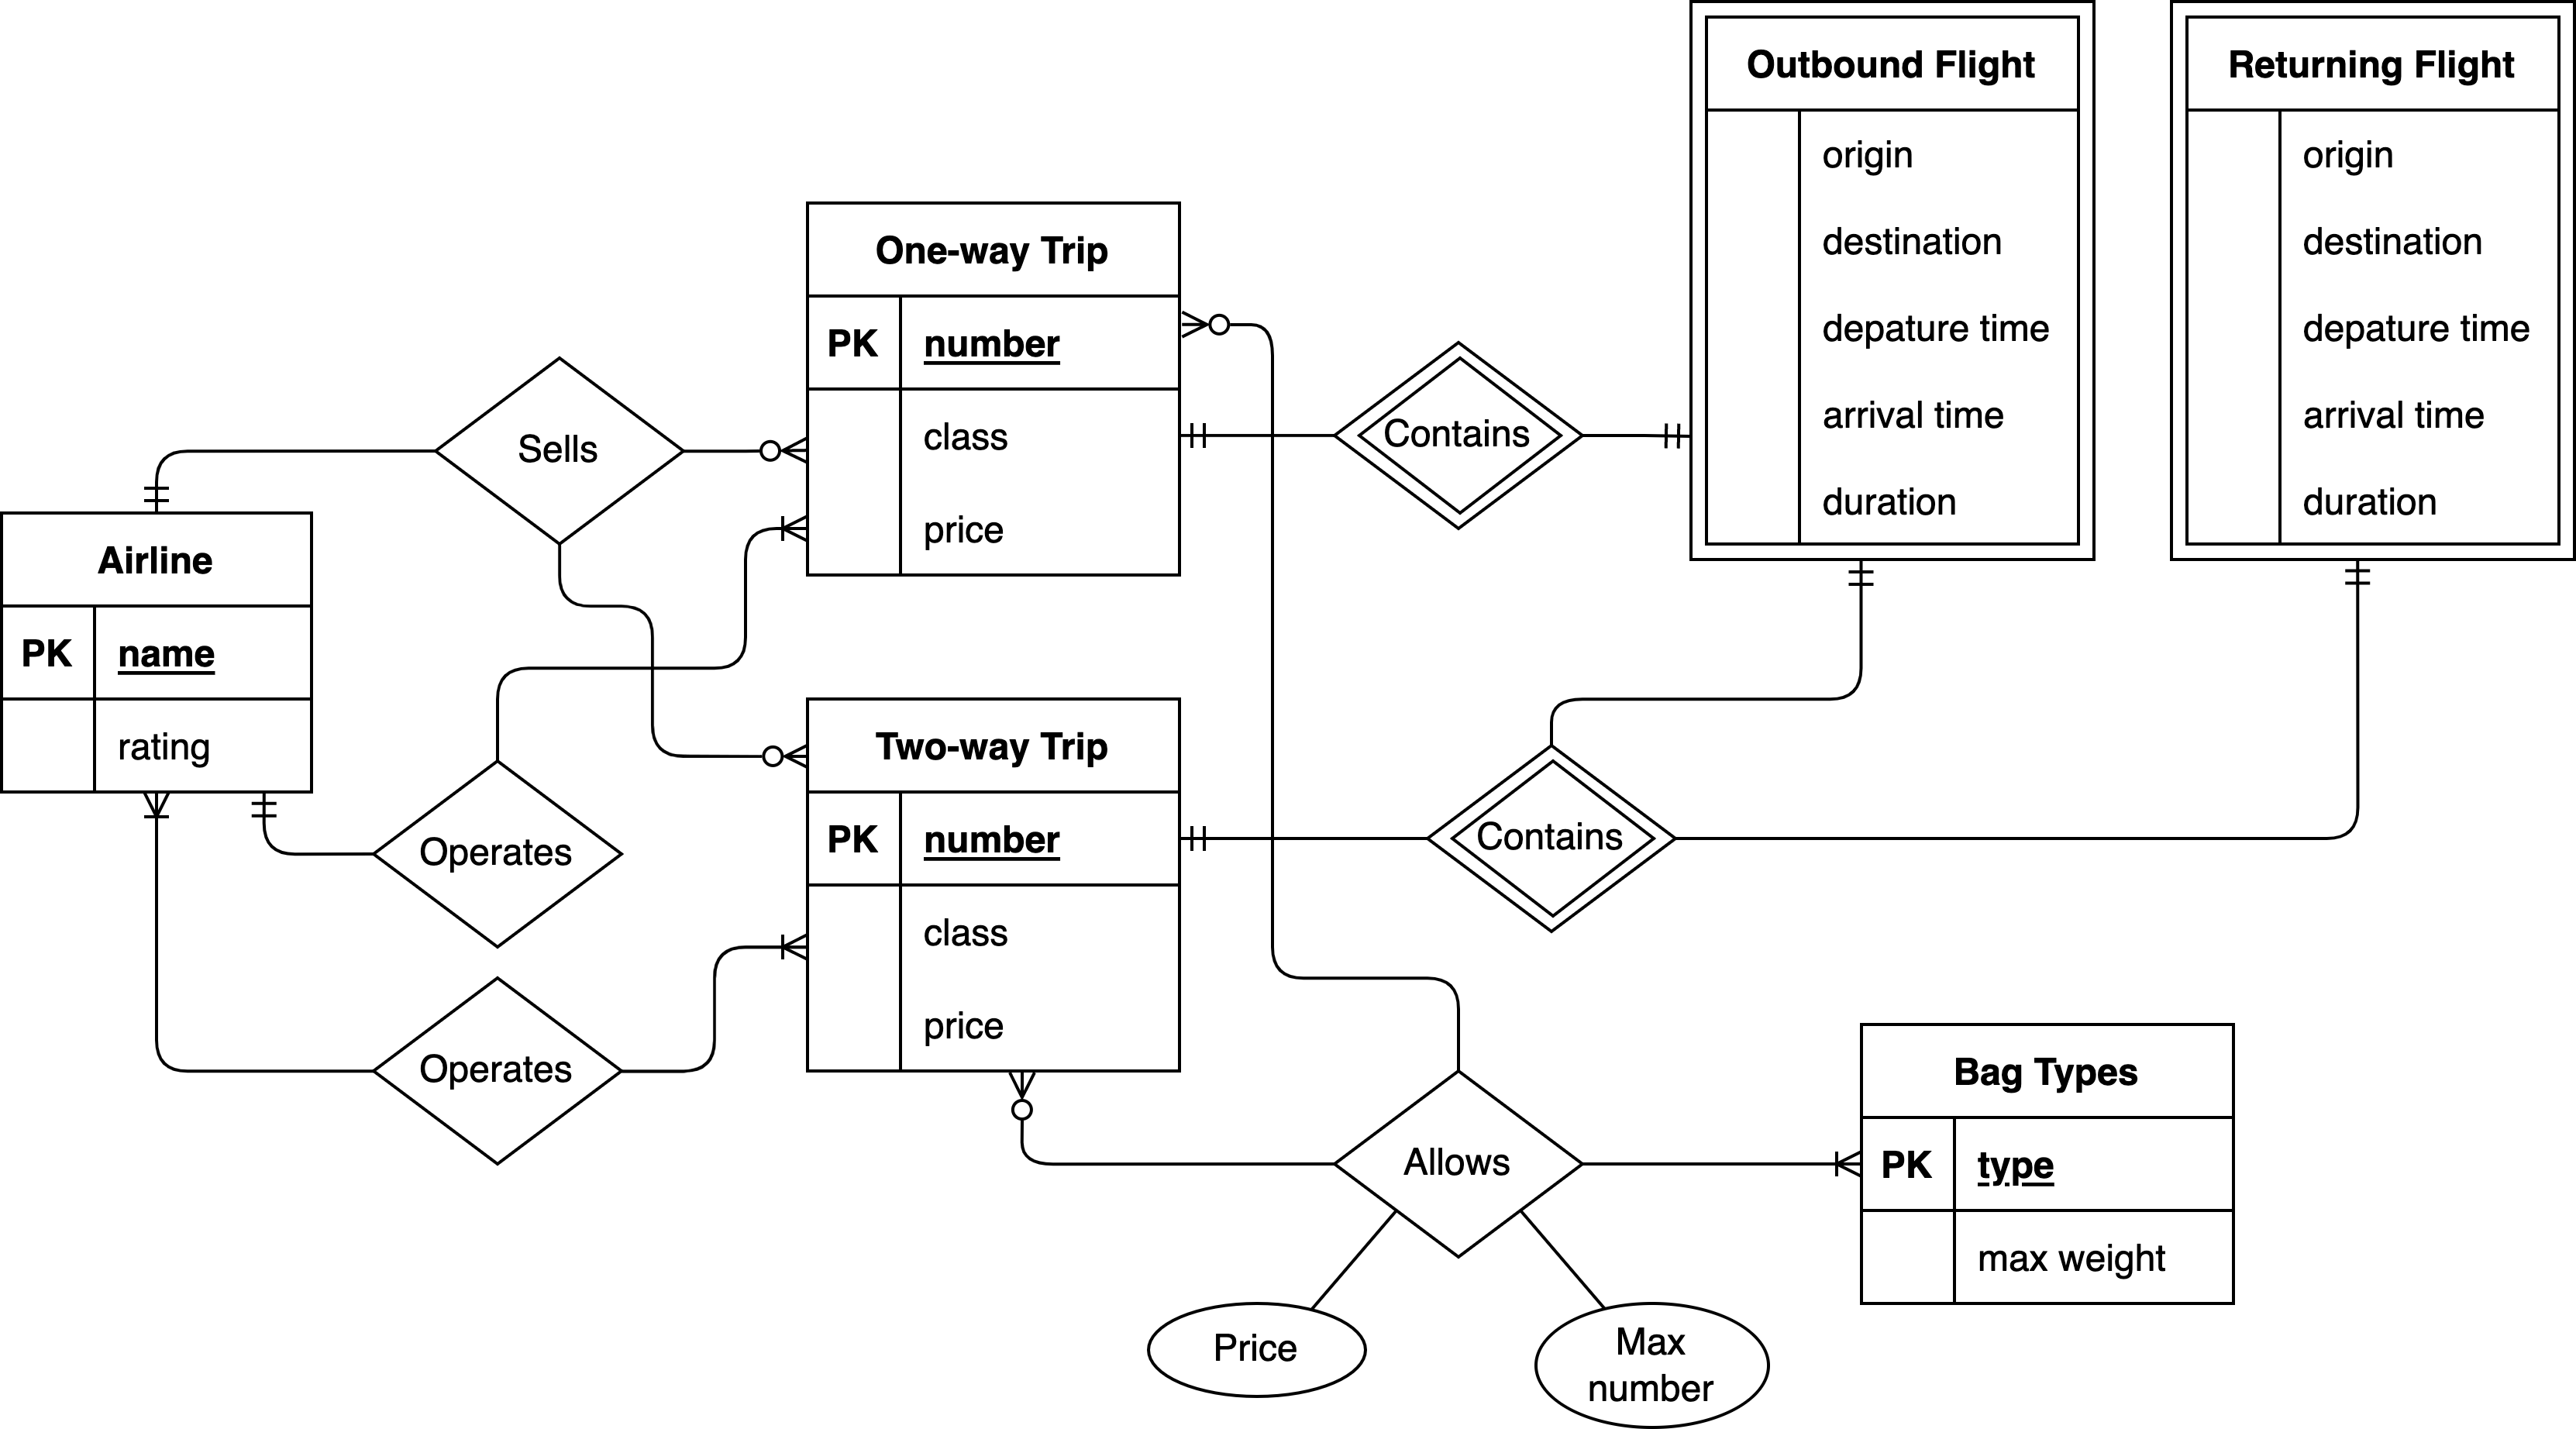entity: (806, 697, 1177, 1072), (804, 206, 1179, 575), (1862, 1022, 2235, 1308), (2, 516, 313, 792)
ident_rel: (1330, 333, 1584, 531), (1423, 744, 1673, 934)
many: (744, 714, 804, 787), (114, 790, 194, 843), (753, 906, 806, 977), (750, 424, 804, 482), (1175, 299, 1226, 354), (750, 507, 811, 551), (1809, 1135, 1862, 1183), (1008, 1068, 1040, 1130)
one: (1826, 561, 1900, 605), (123, 466, 190, 512), (1177, 806, 1226, 868), (2323, 560, 2393, 602), (1649, 407, 1691, 465), (241, 792, 289, 839), (1177, 415, 1226, 459)
rel: (371, 758, 626, 950), (1334, 1065, 1584, 1260), (373, 973, 625, 1167), (431, 355, 683, 546)
rel_attr: (1533, 1297, 1775, 1429), (1145, 1304, 1371, 1396)
weak_entity: (1691, 0, 2094, 560), (2171, 0, 2572, 558)
